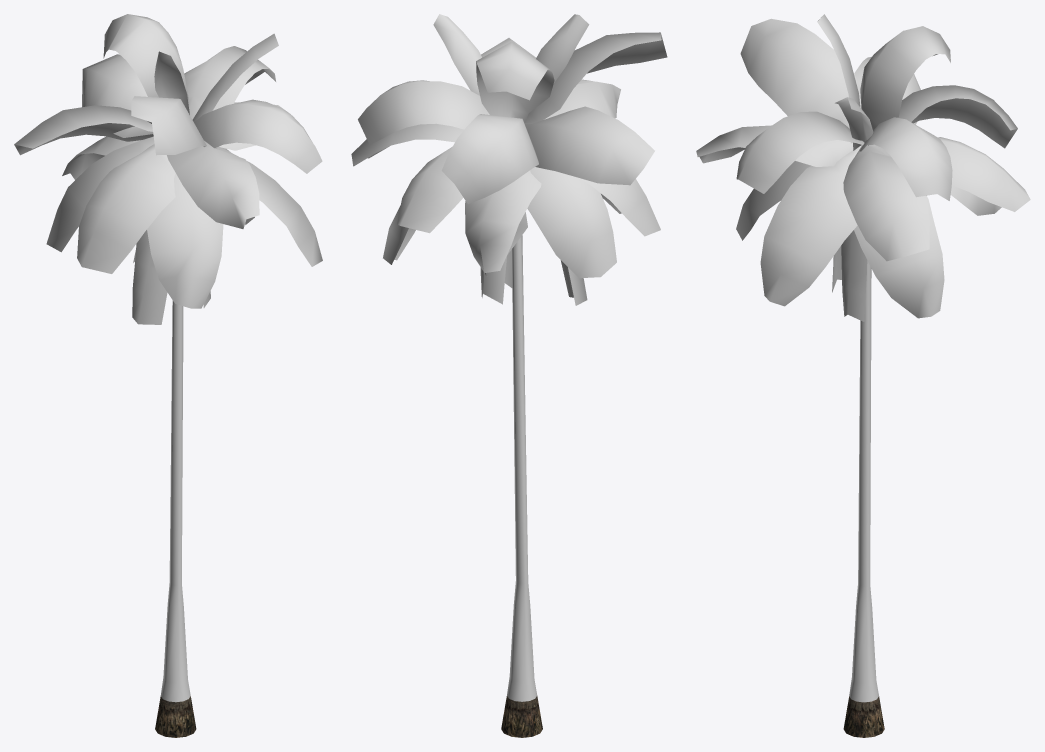
Rendered from Cocos_palm3.fbx.
3 renders of one model, left to right at view 1: azimuth 30°, elevation 25°; view 2: azimuth 150°, elevation 25°; view 3: azimuth 270°, elevation 25°, orthographic.
Visible parts, largest first — view 1: polySurface60; view 2: polySurface60; view 3: polySurface60.
Boxes of the visible parts, x1=… form: polySurface60: x1=14, y1=14, x2=322, y2=737; polySurface60: x1=351, y1=14, x2=667, y2=737; polySurface60: x1=696, y1=14, x2=1030, y2=737.
Bounding box in the file's own units: 46.28 × 107 × 46.48.
Materials: 3 (1 with a texture image).
